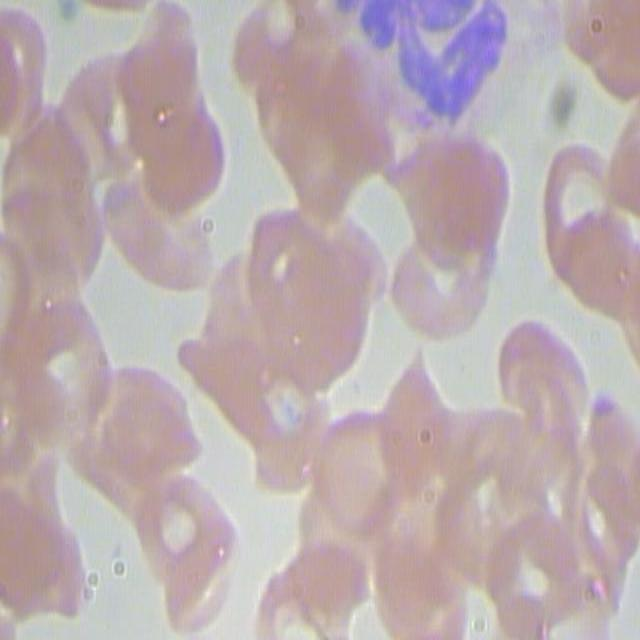RBC: (251, 212, 380, 376), (477, 425, 578, 634), (245, 7, 357, 185), (201, 303, 318, 450), (112, 461, 224, 614), (118, 45, 222, 203), (419, 161, 501, 348), (435, 456, 547, 580), (14, 298, 106, 447), (561, 150, 629, 328), (7, 456, 78, 625), (32, 128, 105, 281), (107, 185, 216, 286), (379, 536, 486, 638), (510, 332, 606, 445), (399, 372, 468, 519), (116, 378, 202, 486), (0, 14, 59, 164), (327, 425, 405, 536), (297, 523, 376, 632), (585, 473, 640, 605), (584, 16, 640, 110), (620, 127, 640, 232)
WBC: (334, 5, 542, 118)
